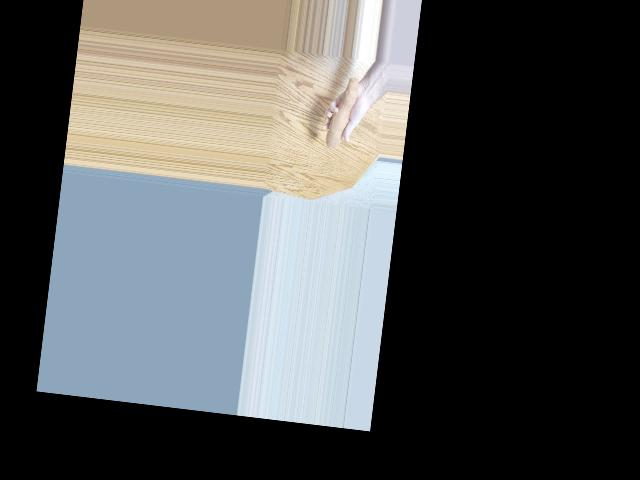sweet_potato: (324, 76, 359, 152)
